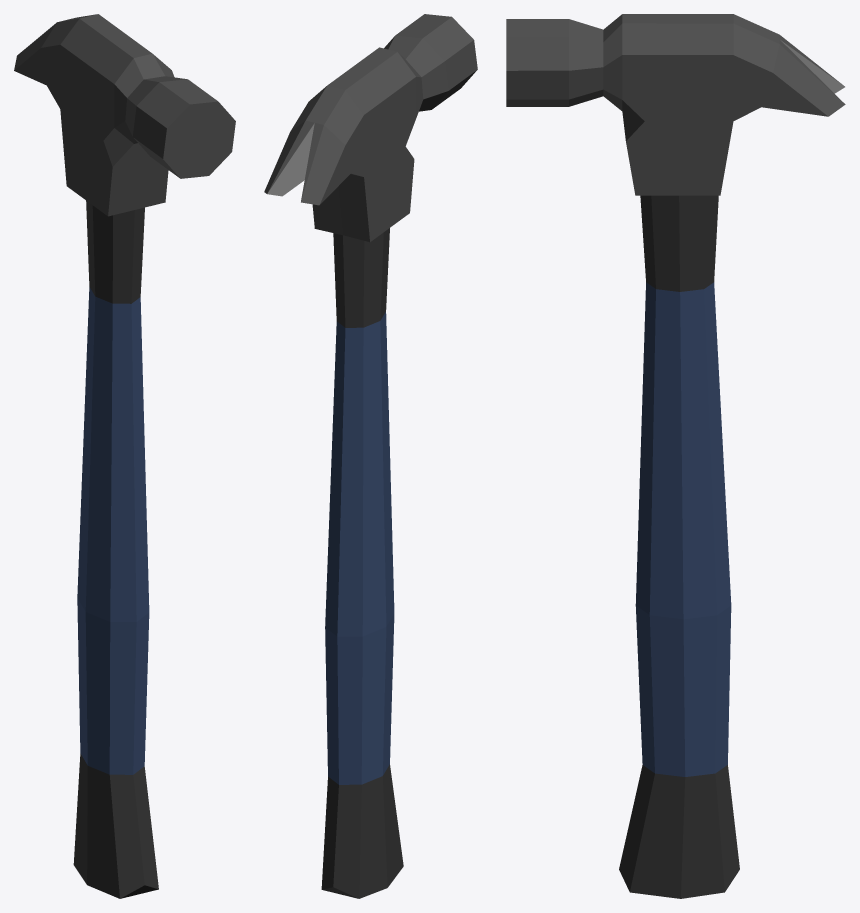
Rendered from hammer_4.fbx.
3 views of the same model, side by side, from view 1: azimuth 30°, elevation 25°; view 2: azimuth 150°, elevation 25°; view 3: azimuth 270°, elevation 25° (orthographic). The views are drawn at different scales.
Visible parts, largest first — view 1: hammer_4; view 2: hammer_4; view 3: hammer_4.
Part boxes in pixels (left/top/right/bottom): hammer_4: left=14, top=14, right=235, bottom=898; hammer_4: left=264, top=14, right=477, bottom=898; hammer_4: left=506, top=14, right=845, bottom=898.
Bounding box in the file's own units: 5.66 × 62.68 × 22.24.
Materials: 1 (1 with a texture image).
